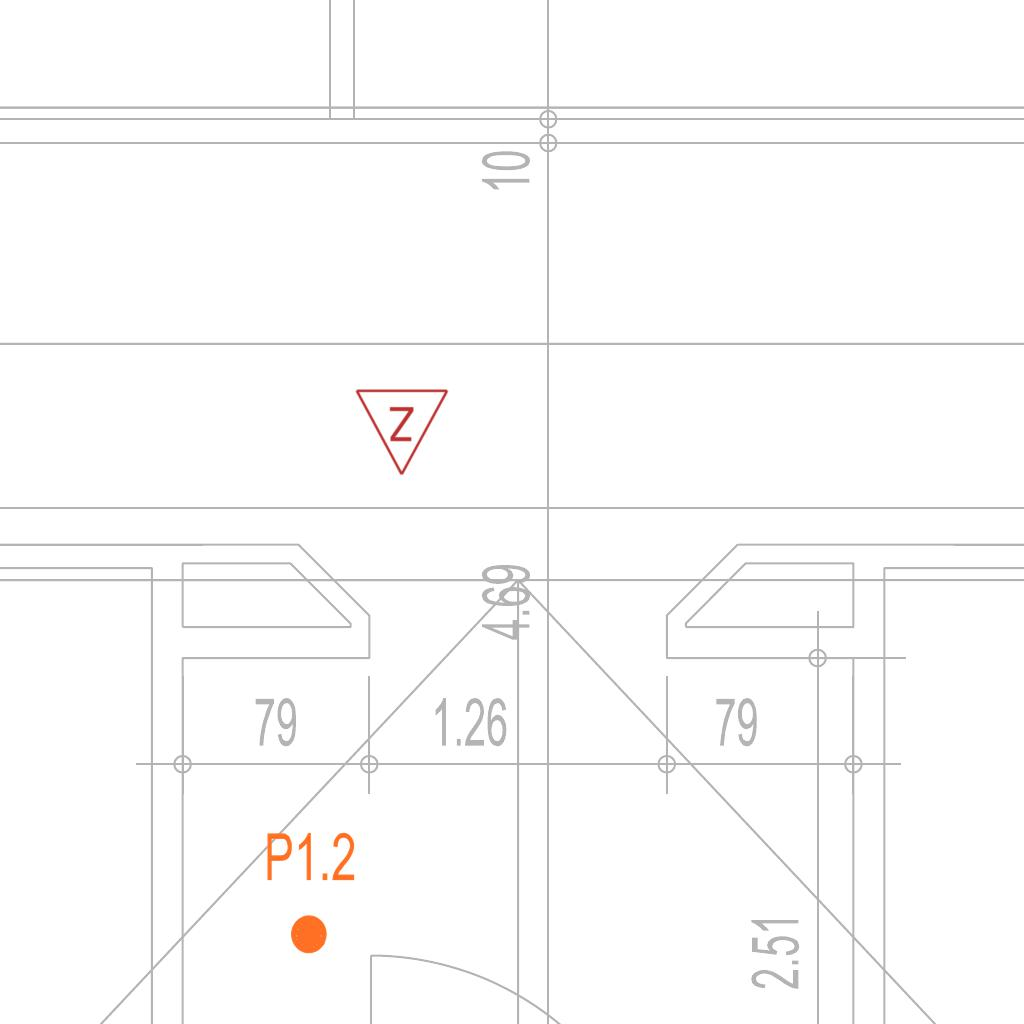Downlight_LED_Einbauleuchten_Flur: (264, 829, 357, 957)
Zimmersignalleuchte: (354, 382, 452, 482)
